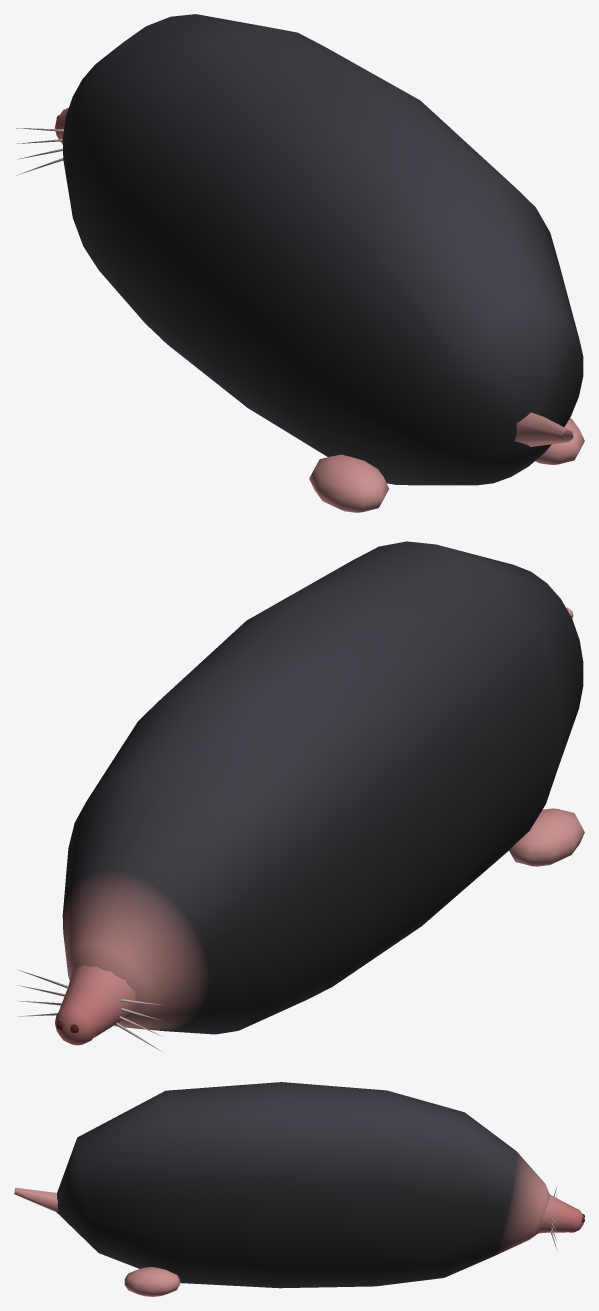
File: Mogura.fbx
3 views of the same model, one above another, from view 1: azimuth 30°, elevation 25°; view 2: azimuth 150°, elevation 25°; view 3: azimuth 270°, elevation 25° (orthographic). The views are drawn at different scales.
Visible parts, largest first — view 1: Mogura; view 2: Mogura; view 3: Mogura.
Boxes of the visible parts, bbox=[...] form: Mogura: bbox=[16, 14, 584, 512]; Mogura: bbox=[16, 541, 584, 1051]; Mogura: bbox=[14, 1082, 584, 1296].
Size of the model in its own units: 1.99 by 2.31 by 6.24.
